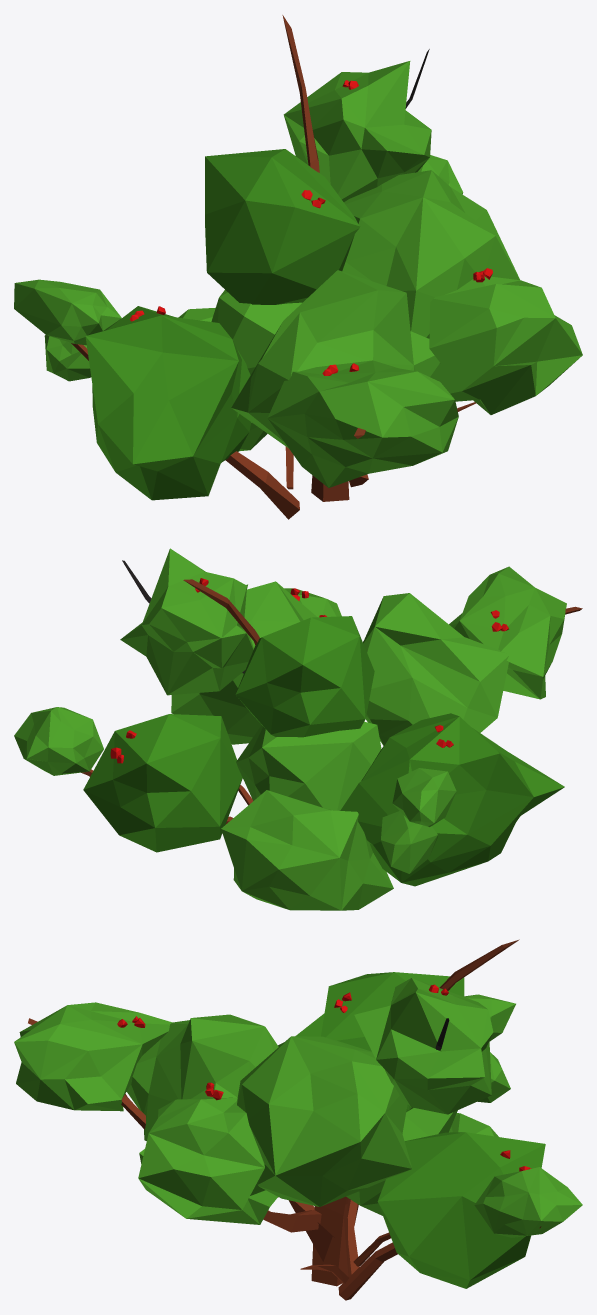
The model's file is BushWithBerries_001.FBX.
3 renders of one model, top to bottom at view 1: azimuth 30°, elevation 25°; view 2: azimuth 150°, elevation 25°; view 3: azimuth 270°, elevation 25°, orthographic. The views are drawn at different scales.
Visible parts, largest first — view 1: Leaf016, Leaf018, Leaf022, Leaf023, Leaf019, Leaf017, Leaf020, Leaf027, Leaf025, Branch008, Branch010, Leaf026 (+2 smaller); view 2: Leaf016, Leaf029, Leaf021, Leaf017, Leaf018, Leaf020, Leaf025, Leaf022, Leaf023, Leaf028, Leaf027, Leaf026 (+2 smaller); view 3: Leaf023, Leaf029, Leaf019, Leaf020, Leaf022, Leaf017, Leaf028, Leaf018, Branch008, Leaf025, Branch009, Branch014 (+5 smaller).
Part boxes in pixels (box(x1,y1,x2,y2)): Leaf016: box(85, 306, 251, 500); Leaf018: box(205, 149, 360, 304); Leaf022: box(267, 360, 458, 487); Leaf023: box(339, 170, 519, 338); Leaf019: box(429, 276, 582, 414); Leaf017: box(231, 270, 439, 448); Leaf020: box(283, 61, 431, 201); Leaf027: box(14, 279, 121, 345); Leaf025: box(211, 290, 301, 374); Branch008: box(282, 15, 349, 501); Branch010: box(71, 343, 299, 519); Leaf026: box(44, 334, 91, 381); Leaf016: box(340, 713, 564, 886); Leaf029: box(83, 714, 242, 852); Leaf021: box(221, 790, 393, 910); Leaf017: box(363, 593, 508, 745); Leaf018: box(235, 616, 374, 737); Leaf020: box(120, 548, 253, 695); Leaf025: box(236, 721, 381, 810); Leaf022: box(449, 566, 566, 699); Leaf023: box(171, 581, 317, 744); Leaf028: box(14, 707, 103, 775); Leaf027: box(392, 768, 456, 827); Leaf026: box(381, 811, 437, 873); Leaf023: box(237, 1036, 412, 1206); Leaf029: box(377, 1132, 545, 1288); Leaf019: box(138, 1097, 277, 1224); Leaf020: box(354, 978, 493, 1114); Leaf022: box(14, 1002, 172, 1111); Leaf017: box(126, 1014, 278, 1140); Leaf028: box(474, 1167, 582, 1237); Leaf018: box(321, 972, 464, 1111); Branch008: box(311, 939, 519, 1286); Leaf025: box(346, 1108, 457, 1215); Branch009: box(28, 1018, 334, 1261); Branch014: box(338, 1226, 541, 1300).
Size of the model in its own units: 14.59 by 12.2 by 16.29.
